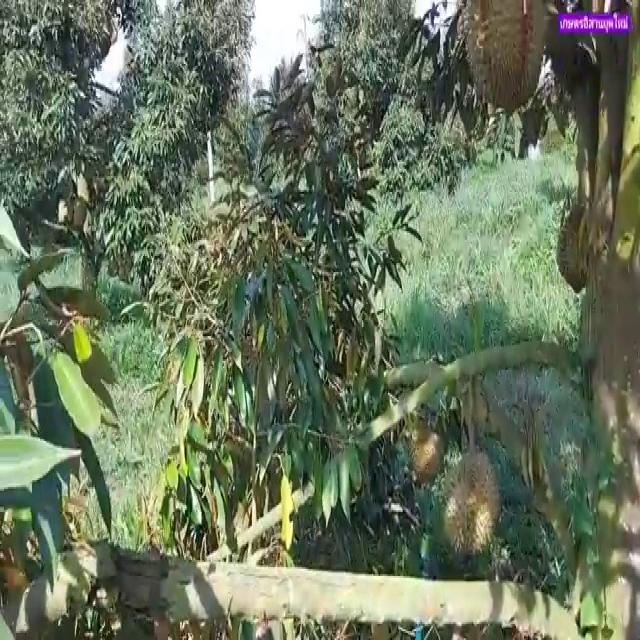durian: (460, 0, 546, 118), (438, 444, 504, 564), (554, 197, 604, 297)
